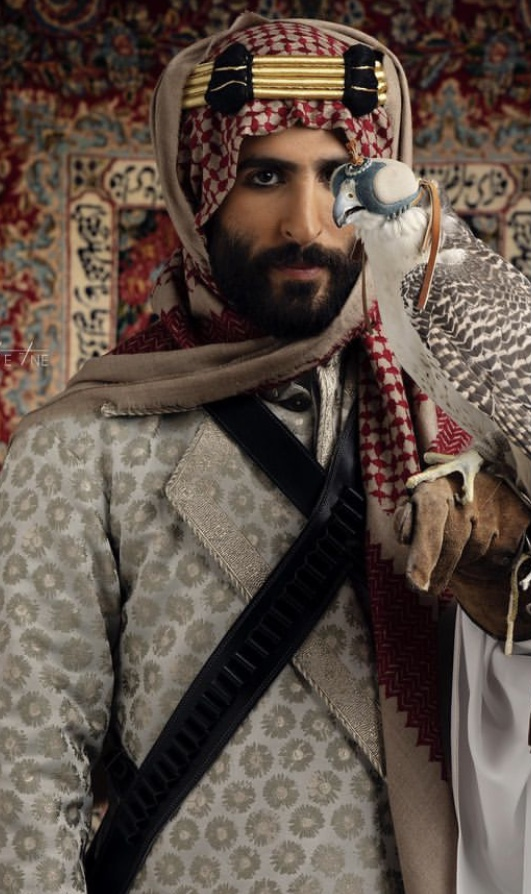Saudi_Founding_Day: (2, 7, 527, 894)
